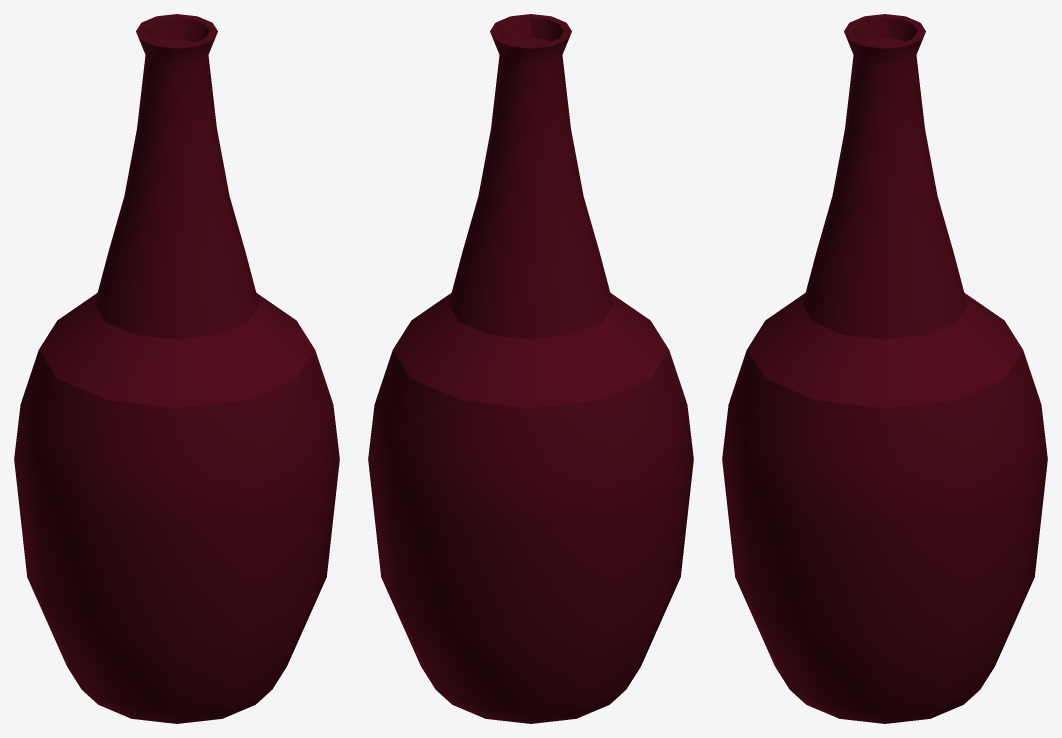
File: vase1.fbx
3 views of the same model, side by side, from view 1: azimuth 30°, elevation 25°; view 2: azimuth 150°, elevation 25°; view 3: azimuth 270°, elevation 25° (orthographic).
Parts seen in each view (by area): view 1: pCylinder4; view 2: pCylinder4; view 3: pCylinder4.
Boxes of the visible parts, <box> form: pCylinder4: <box>14,14,339,723</box>; pCylinder4: <box>368,14,693,723</box>; pCylinder4: <box>722,14,1047,723</box>.
Bounding box in the file's own units: 0.4114 × 0.9117 × 0.4114.
